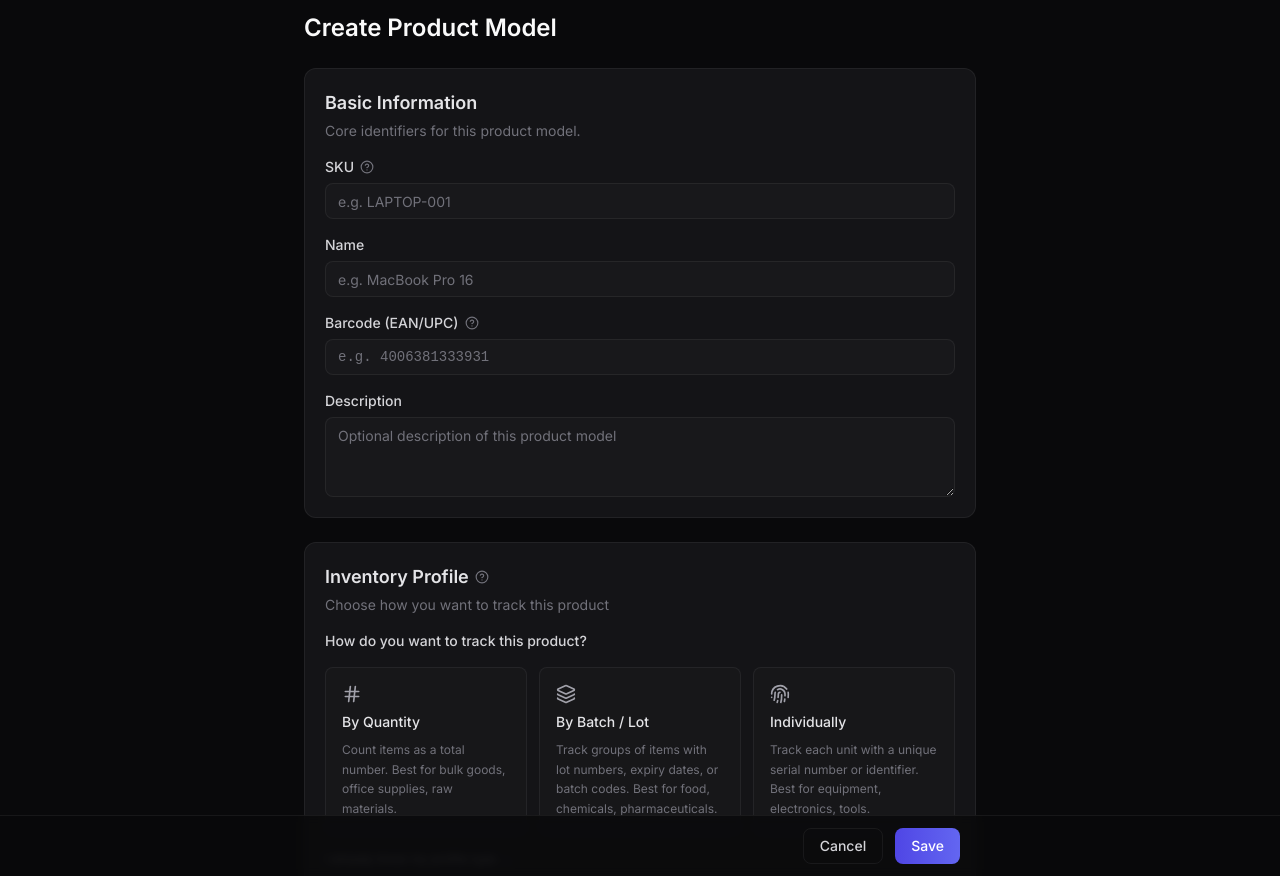
Scenario: ProductModelCreate Form › Dimensional profile shows formula field via wizard
Click the text "By Quantity".
click(381, 722)  # box [342, 712, 420, 732]
(page scrolled)
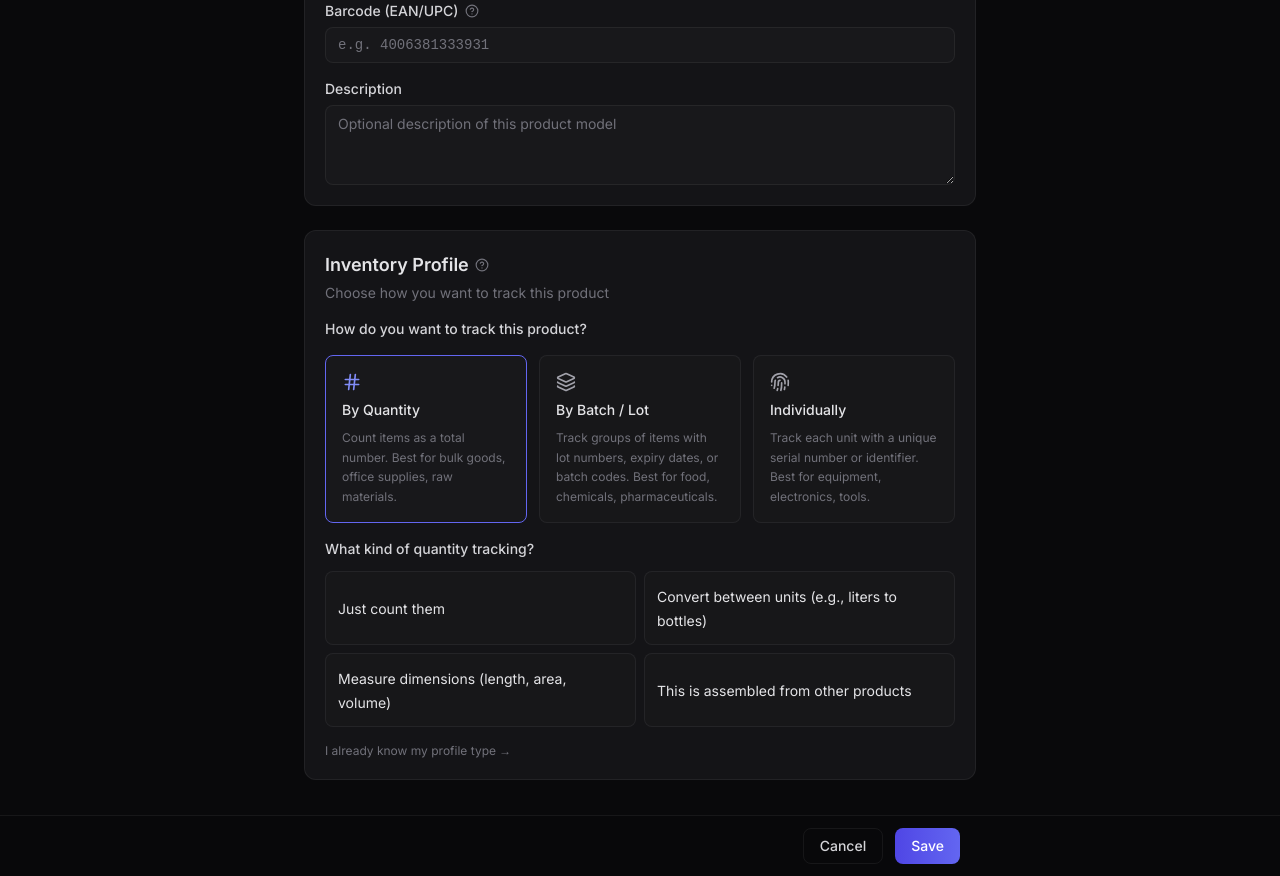
Check: the text "Measure dimensions (length, area, volume)" is shown, box [338, 670, 566, 711]
Click the button "Measure dimensions (length, area, volume)".
click(480, 690)  # box [325, 653, 636, 727]
(page scrolled)
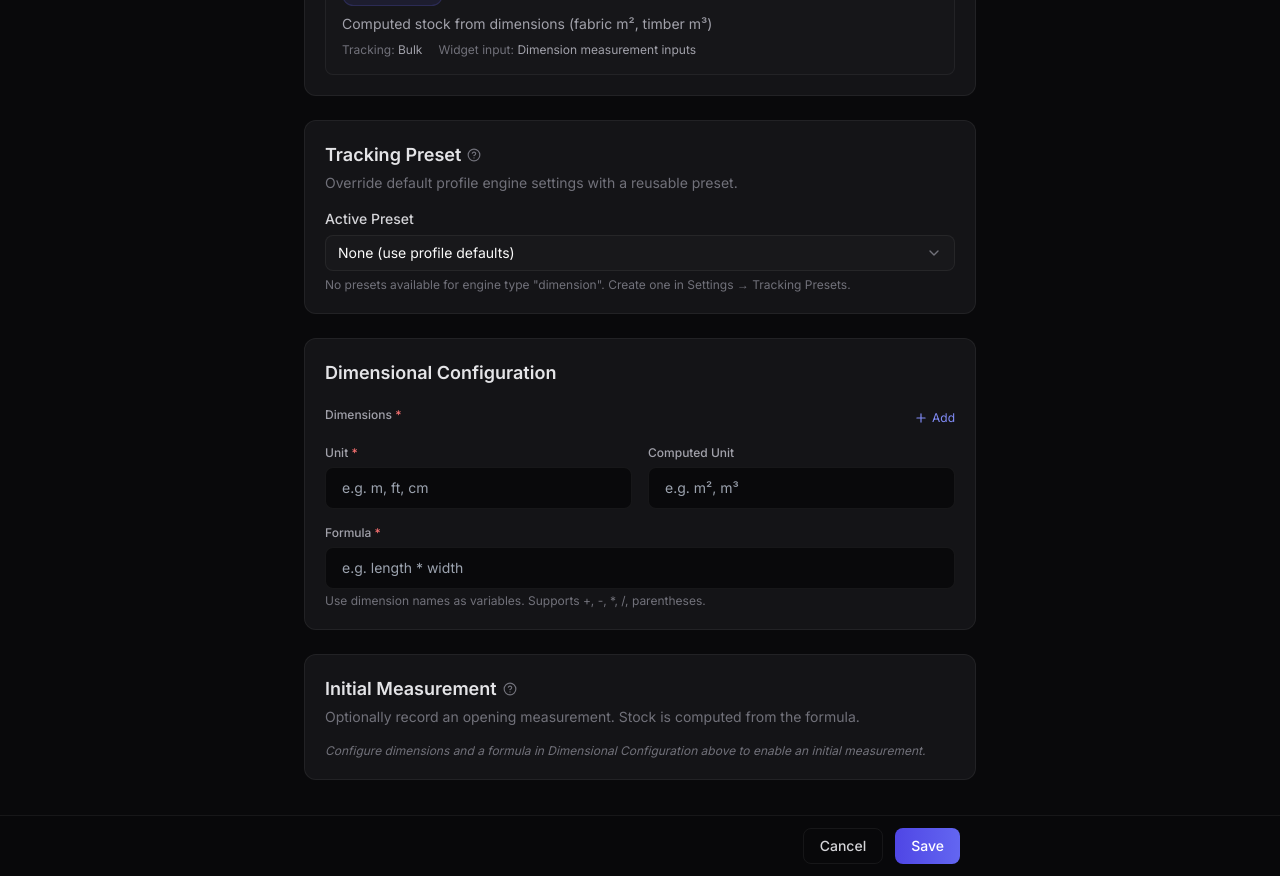
Check: the heading "Dimensional Configuration" is shown, box [325, 358, 556, 386]
Check: the field with placeholder "e.g. length * width" is shown, box [325, 546, 955, 588]
